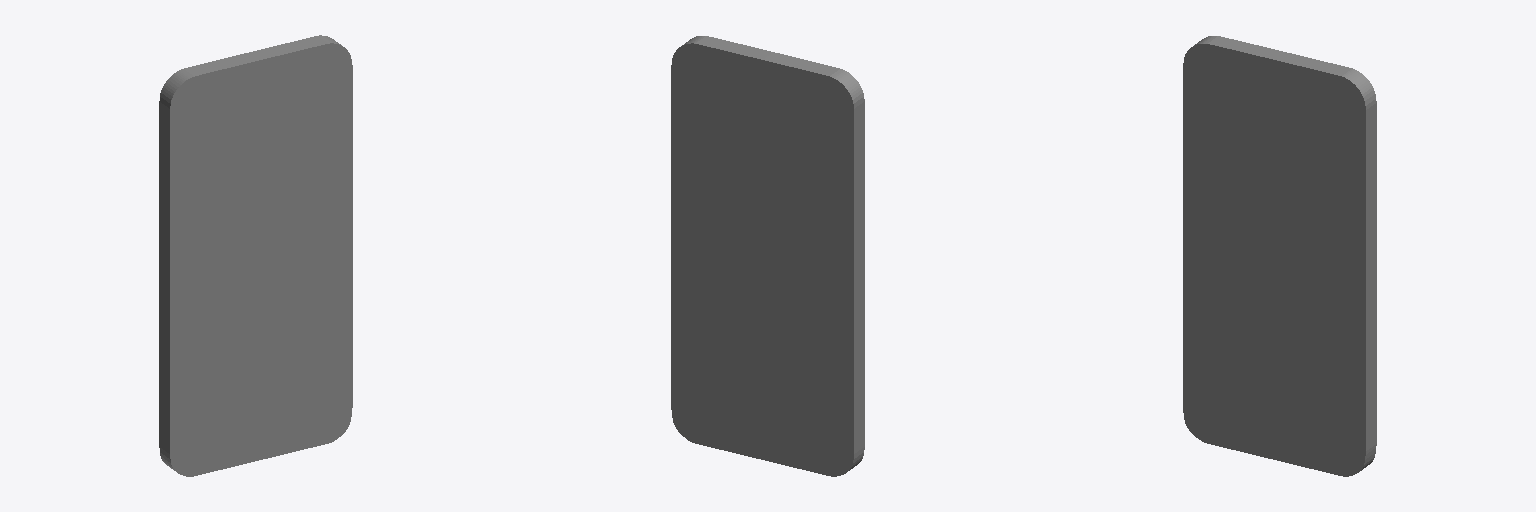
Rendered from mobile-phone.obj.
3 renders of one model, left to right at view 1: azimuth 30°, elevation 25°; view 2: azimuth 150°, elevation 25°; view 3: azimuth 330°, elevation 25°, orthographic.
Visible parts, largest first — view 1: Phone; view 2: Phone; view 3: Phone.
Boxes of the visible parts, box(x1,y1,x2,y2) form: Phone: box(159, 35, 352, 476); Phone: box(671, 36, 864, 476); Phone: box(1183, 36, 1376, 476).
Bounding box in the file's own units: 14.46 × 30.31 × 1.5.